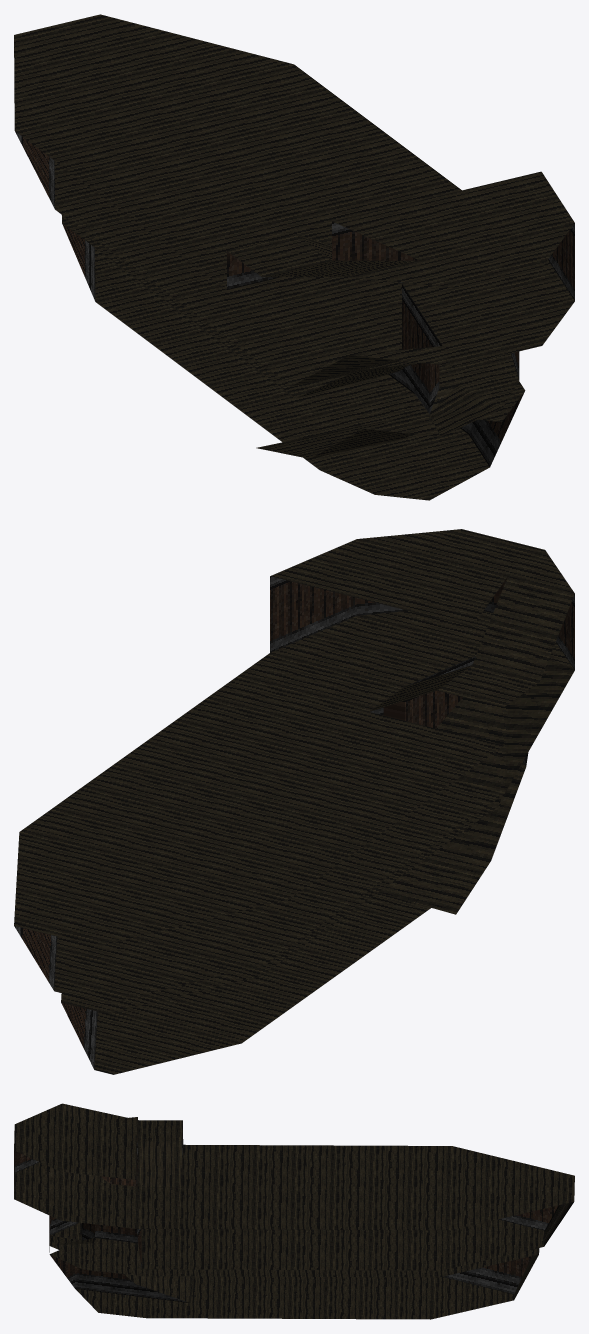
Rendered from boat1terior.obj.
The picture shows the model from 3 angles, top to bottom: view 1: azimuth 30°, elevation 25°; view 2: azimuth 150°, elevation 25°; view 3: azimuth 270°, elevation 25°; orthographic projection. The views are drawn at different scales.
Visible parts, largest first — view 1: boat1terior; view 2: boat1terior; view 3: boat1terior.
Boxes of the visible parts, left/top/right/bottom form: boat1terior: left=14, top=14, right=574, bottom=500; boat1terior: left=14, top=529, right=574, bottom=1074; boat1terior: left=14, top=1103, right=574, bottom=1319.
Bounding box in the file's own units: 0.8661 × 0.7429 × 2.39.
4 materials, 4 textured.
